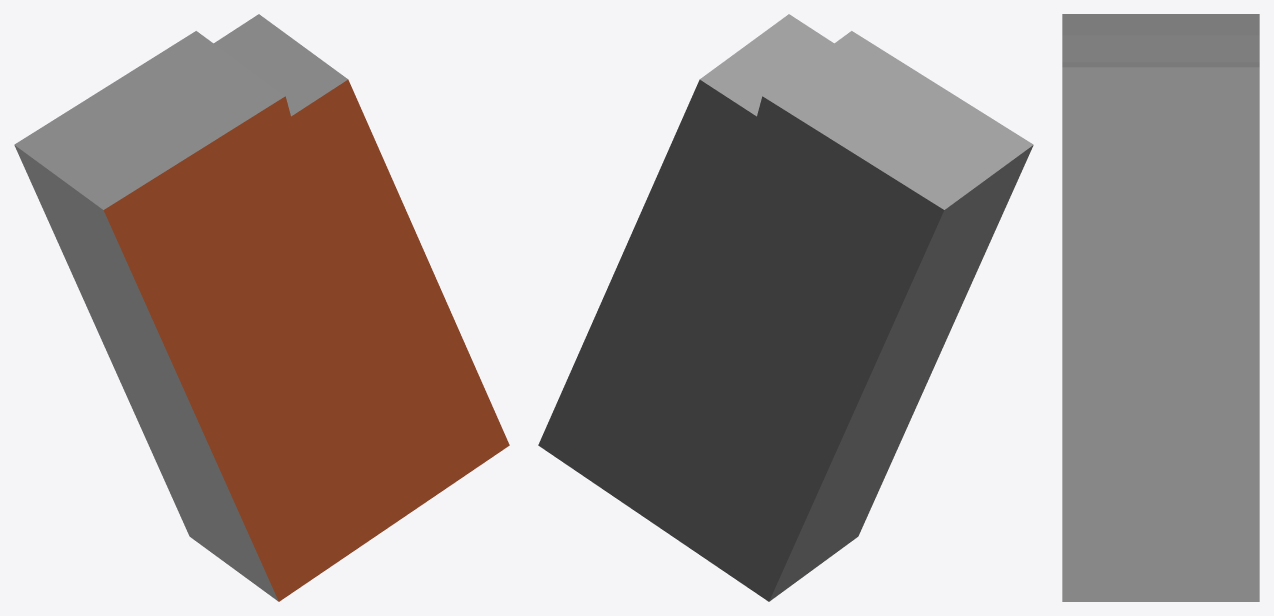
Rendered from construction_3362_assumed_A_Casa_h6m.obj.
3 views of the same model, side by side, from view 1: azimuth 30°, elevation 25°; view 2: azimuth 150°, elevation 25°; view 3: azimuth 270°, elevation 25° (orthographic). The views are drawn at different scales.
Visible parts, largest first — view 1: construction_3362_assumed_A_Casa; view 2: construction_3362_assumed_A_Casa; view 3: construction_3362_assumed_A_Casa.
Boxes of the visible parts, left/top/right/bottom form: construction_3362_assumed_A_Casa: left=14, top=14, right=509, bottom=601; construction_3362_assumed_A_Casa: left=538, top=14, right=1033, bottom=601; construction_3362_assumed_A_Casa: left=1062, top=14, right=1259, bottom=601.
Size of the model in its own units: 15.74 by 18.73 by 6.
